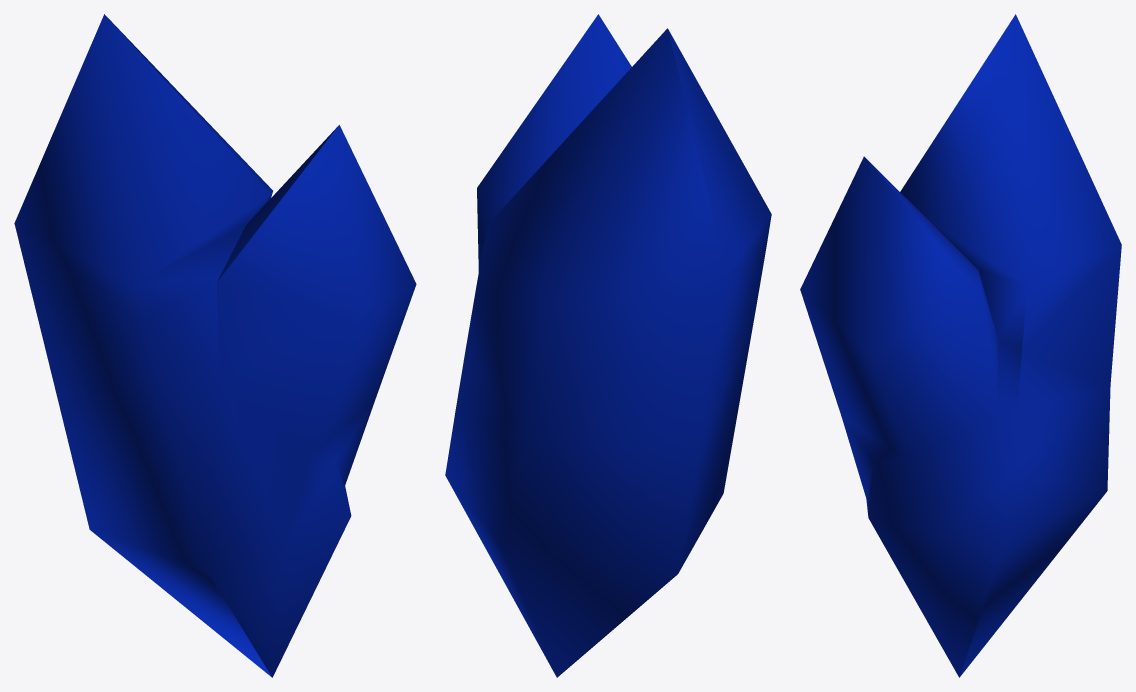
Rendered from OUBLIETTECRYSTAL2_PU.obj.
The picture shows the model from 3 angles, left to right: view 1: azimuth 30°, elevation 25°; view 2: azimuth 150°, elevation 25°; view 3: azimuth 270°, elevation 25°; orthographic projection. The views are drawn at different scales.
Visible parts, largest first — view 1: rystal_twoPoint; view 2: rystal_twoPoint; view 3: rystal_twoPoint.
Part boxes in pixels (left/top/right/bottom): rystal_twoPoint: left=14, top=14, right=416, bottom=677; rystal_twoPoint: left=445, top=14, right=771, bottom=677; rystal_twoPoint: left=800, top=14, right=1121, bottom=677.
Bounding box in the file's own units: 32.27 × 68.41 × 33.01.
